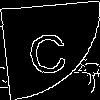C: (25, 25, 70, 75)
